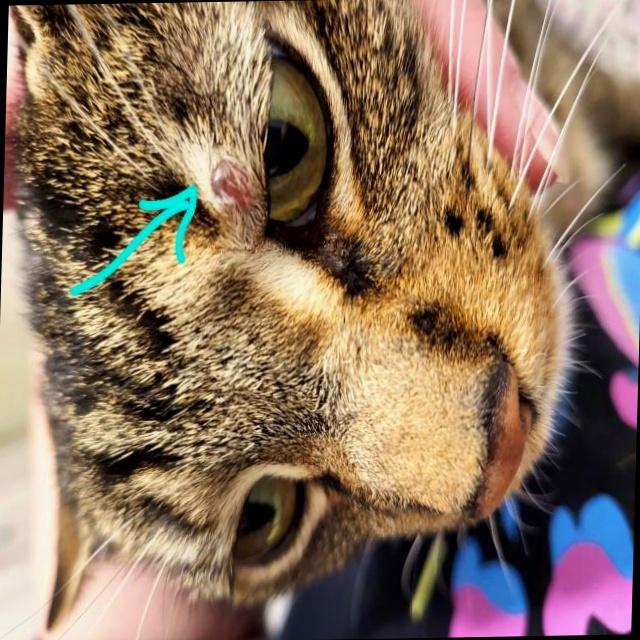lump_and_bump: (213, 162, 252, 208)
